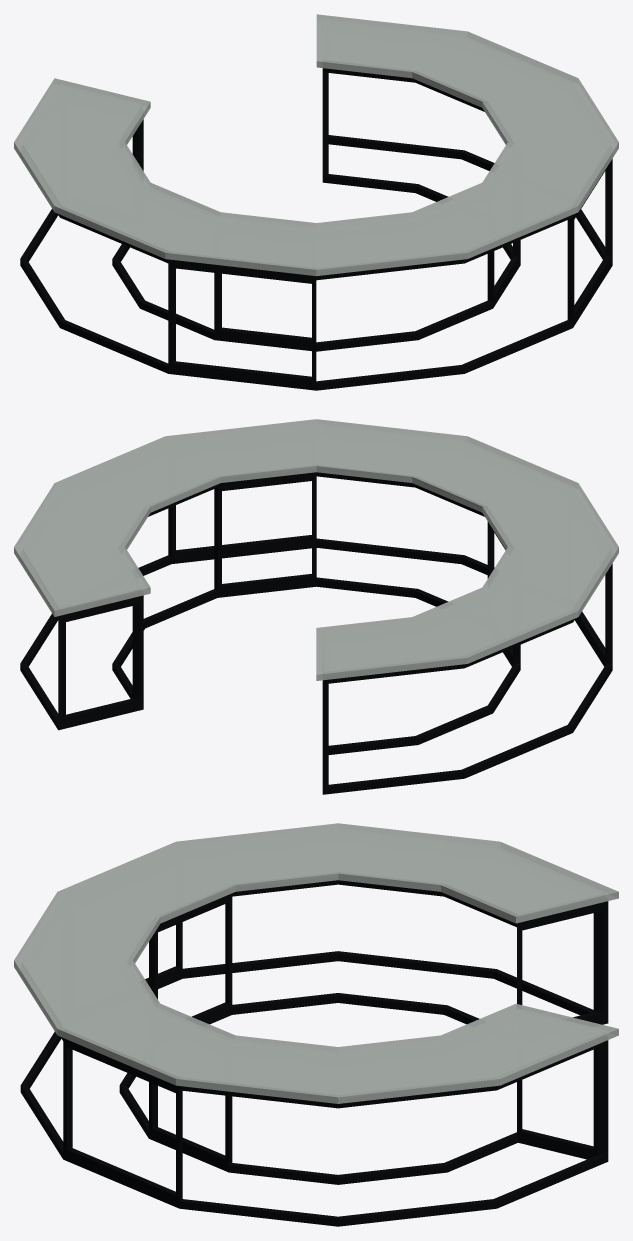
Rendered from CG_D0_IN_Prob_Table_01.fbx.
3 renders of one model, top to bottom at view 1: azimuth 30°, elevation 25°; view 2: azimuth 150°, elevation 25°; view 3: azimuth 270°, elevation 25°, orthographic. The views are drawn at different scales.
Parts seen in each view (by area): view 1: CG_D0_IN_Prob_Table_01; view 2: CG_D0_IN_Prob_Table_01; view 3: CG_D0_IN_Prob_Table_01.
Part boxes in pixels (<box>): CG_D0_IN_Prob_Table_01: <box>14,14,618,390</box>; CG_D0_IN_Prob_Table_01: <box>14,419,618,794</box>; CG_D0_IN_Prob_Table_01: <box>14,823,618,1226</box>.
Bounding box in the file's own units: 400 × 90 × 373.
